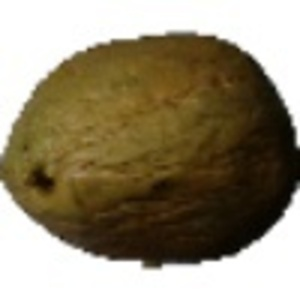mamão: (3, 21, 299, 279)
